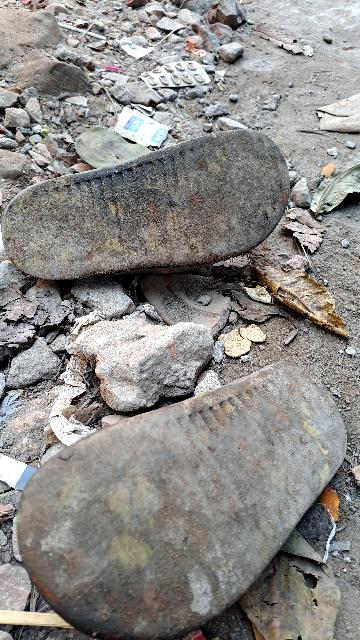sandal: (11, 345, 360, 640), (0, 127, 323, 291)
